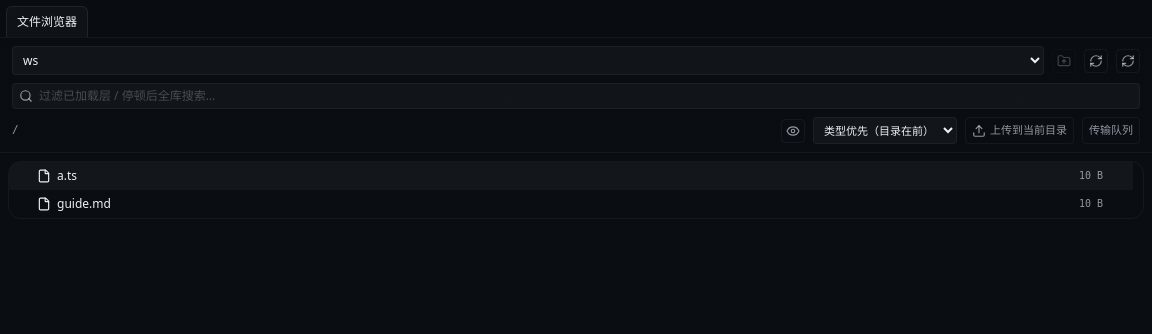
it: FileBrowserSurface：Markdown 预览与 md/文本 切换 › md 文件默认渲染 Markdown：标题/列表/表格来自共享渲染器，并给出切换开关
Click the button "guide.md 10 B" at [84, 204], box [37,194,1103,214]
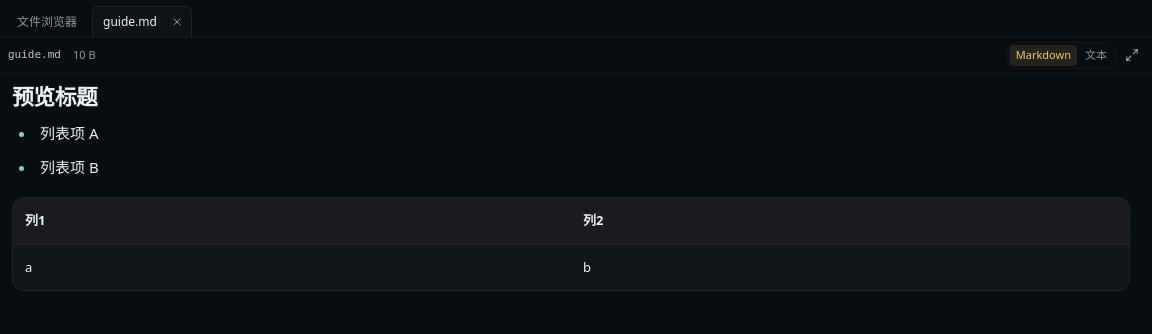
expect the element with test id "file-browser-preview-markdown" is shown: met
expect the heading "预览标题" is shown: met, box [12,82,97,110]
expect the number of list items is 2: met, box [40,123,98,143]; [40,157,99,177]
